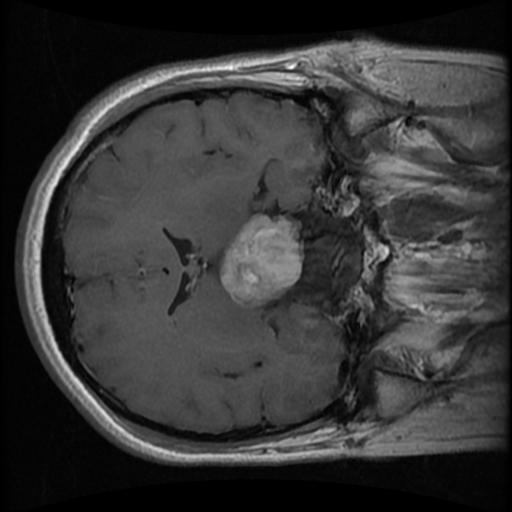pituitary tumour: (217, 214, 300, 311)
